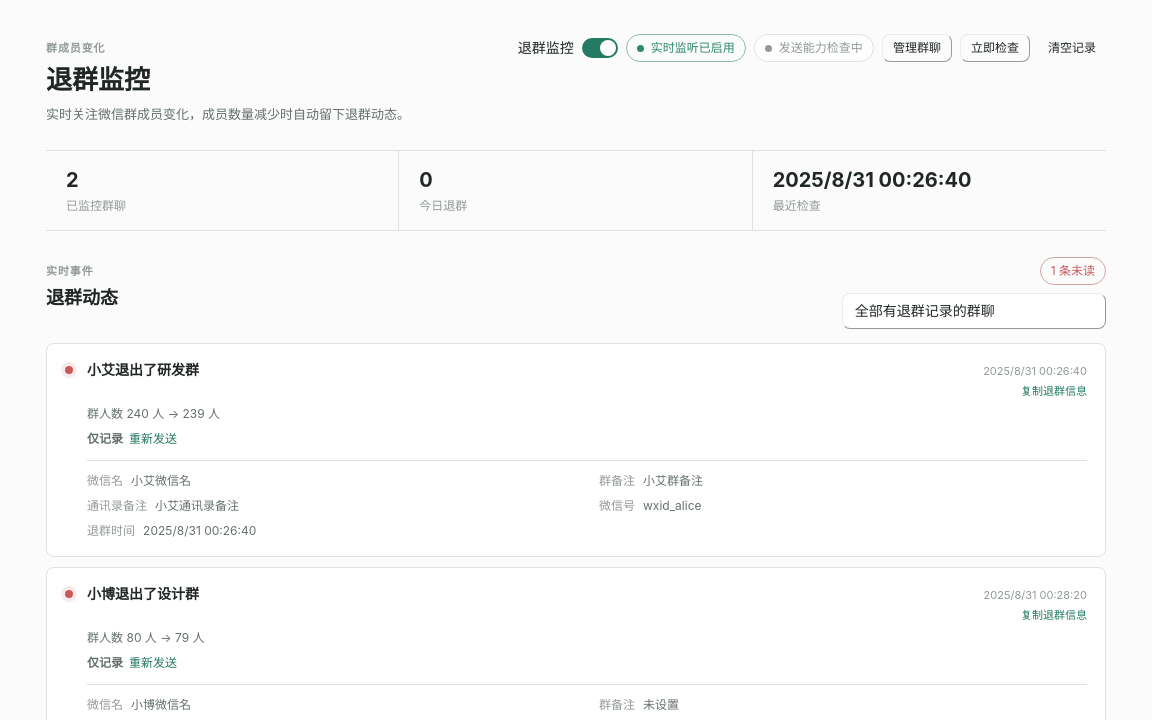
Test: GroupExitMonitorWorkspace › reports a clipboard failure and keeps the event list intact
Step 1. Click the button named "复制退群信息：小艾退出了研发群" → x=1054, y=391, box [1021, 382, 1087, 400]
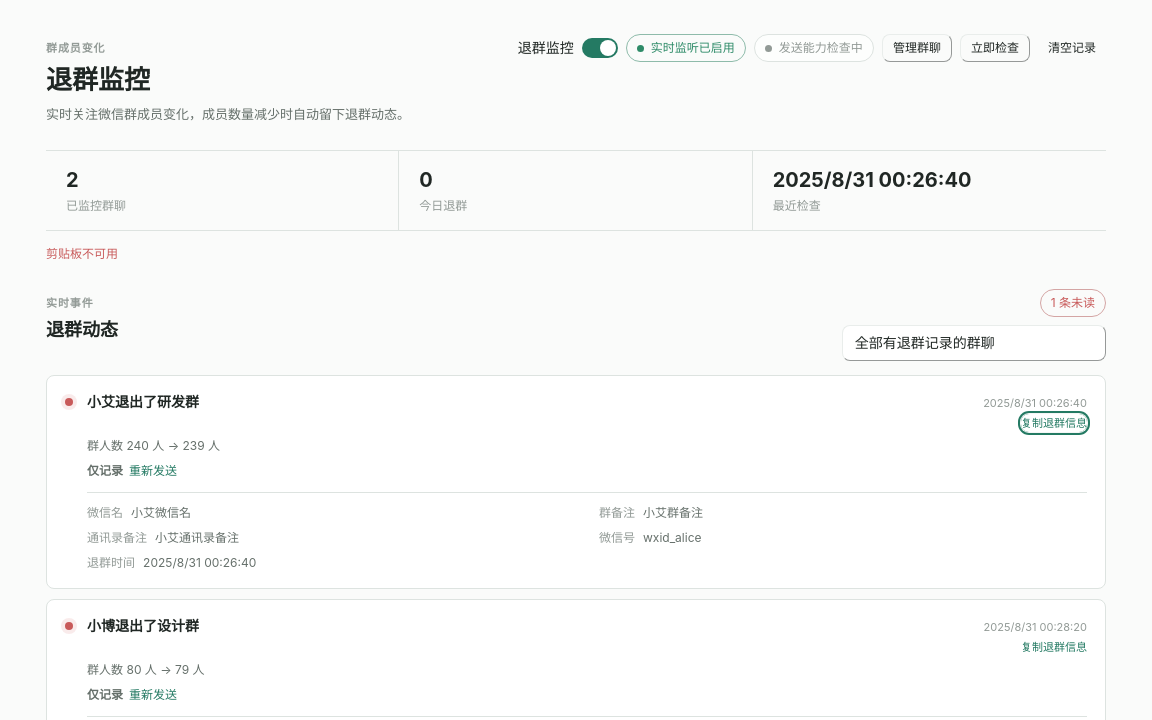
Expected: the text "小艾退出了研发群" is shown, [87, 392, 199, 412]
Expected: the text "剪贴板不可用" is shown, [46, 246, 118, 261]
